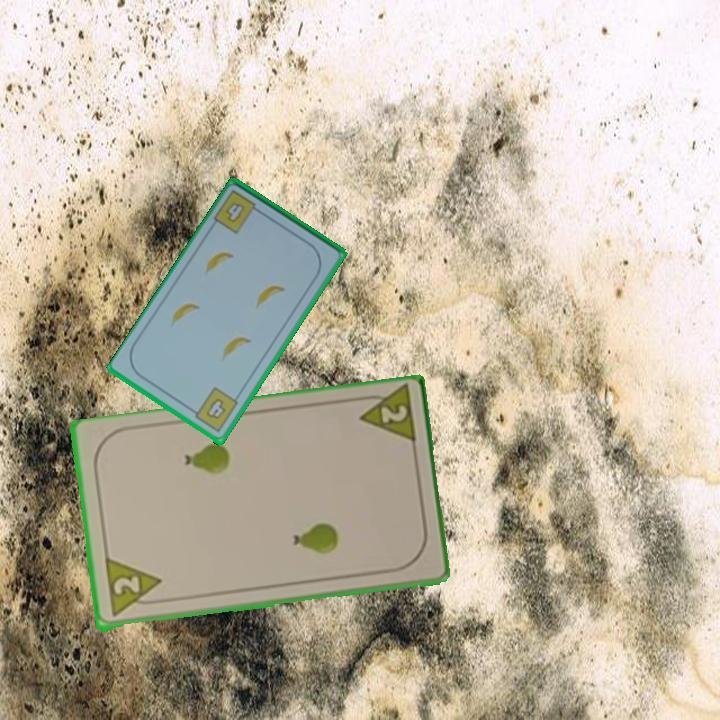2p: (351, 384, 419, 450), (101, 557, 166, 620)
4b: (210, 186, 266, 237), (187, 384, 241, 436)
